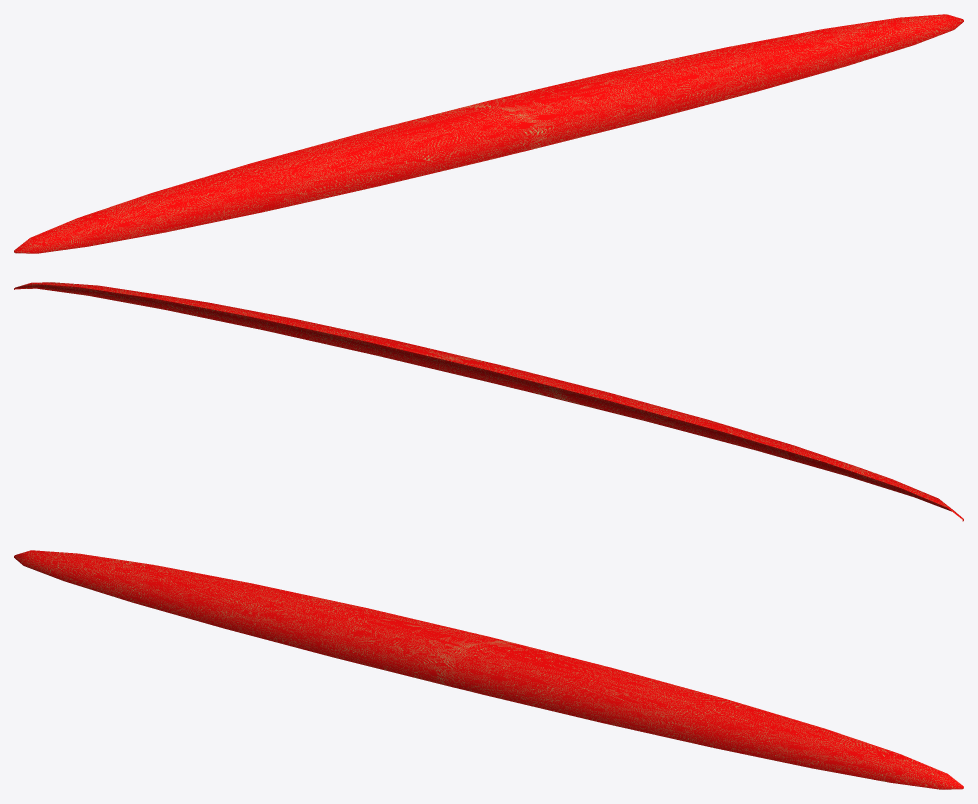
The model's file is original-51.obj.
3 renders of one model, top to bottom at view 1: azimuth 30°, elevation 25°; view 2: azimuth 150°, elevation 25°; view 3: azimuth 330°, elevation 25°, orthographic.
Parts seen in each view (by area): view 1: cabinet_drawer_handle_1_4/cabinet_drawer_handle_1/mesh136/mesh13; view 2: cabinet_drawer_handle_1_4/cabinet_drawer_handle_1/mesh136/mesh13; view 3: cabinet_drawer_handle_1_4/cabinet_drawer_handle_1/mesh136/mesh13.
Part boxes in pixels (x1,y1,x2,y2): cabinet_drawer_handle_1_4/cabinet_drawer_handle_1/mesh136/mesh13: [14, 14, 963, 253]; cabinet_drawer_handle_1_4/cabinet_drawer_handle_1/mesh136/mesh13: [14, 282, 963, 521]; cabinet_drawer_handle_1_4/cabinet_drawer_handle_1/mesh136/mesh13: [14, 550, 963, 789].
Size of the model in its own units: 0.4506 by 0.0162 by 0.0201.
